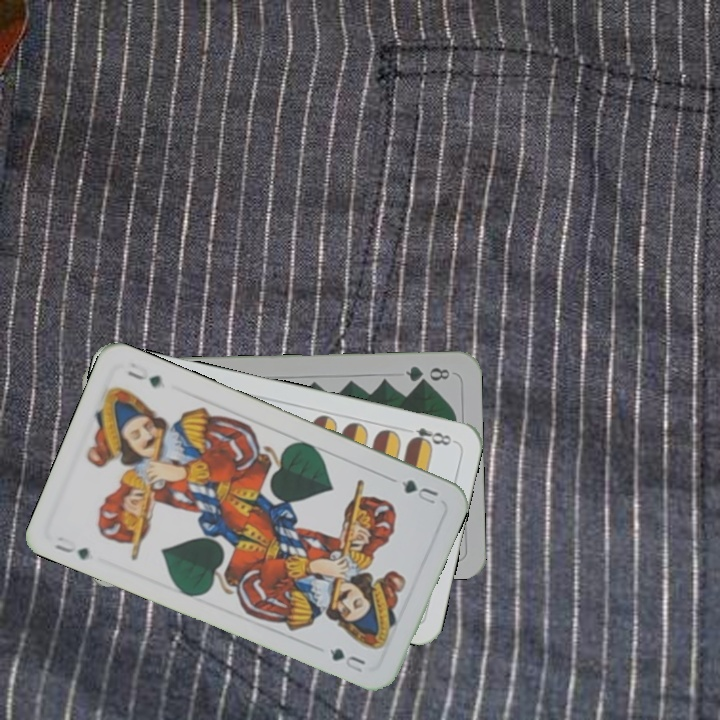E8: (405, 423, 457, 449)
G8: (401, 362, 453, 386)
GU: (397, 475, 441, 507), (50, 532, 92, 563)
